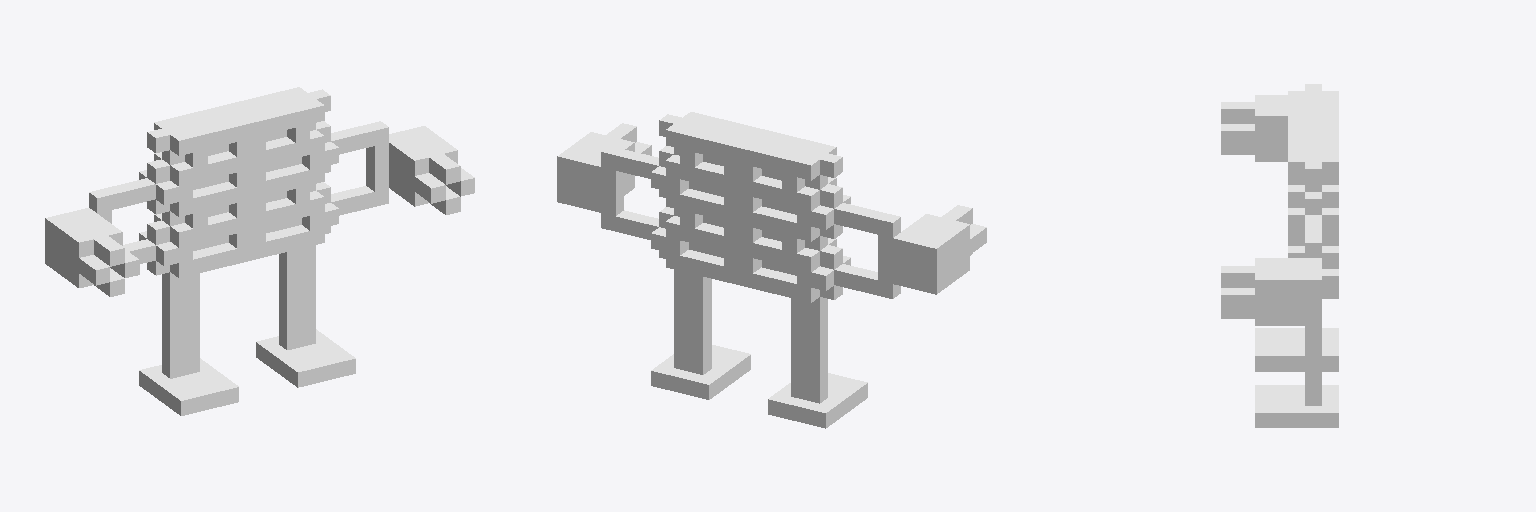
File: bot_3.obj
3 views of the same model, side by side, from view 1: azimuth 30°, elevation 25°; view 2: azimuth 150°, elevation 25°; view 3: azimuth 270°, elevation 25° (orthographic).
Visible parts, largest first — view 1: bot_3; view 2: bot_3; view 3: bot_3.
Part boxes in pixels (bbox=[...]): bot_3: bbox=[45, 87, 474, 415]; bot_3: bbox=[557, 112, 986, 428]; bot_3: bbox=[1221, 84, 1338, 427].
Bounding box in the file's own units: 26 × 17 × 7.